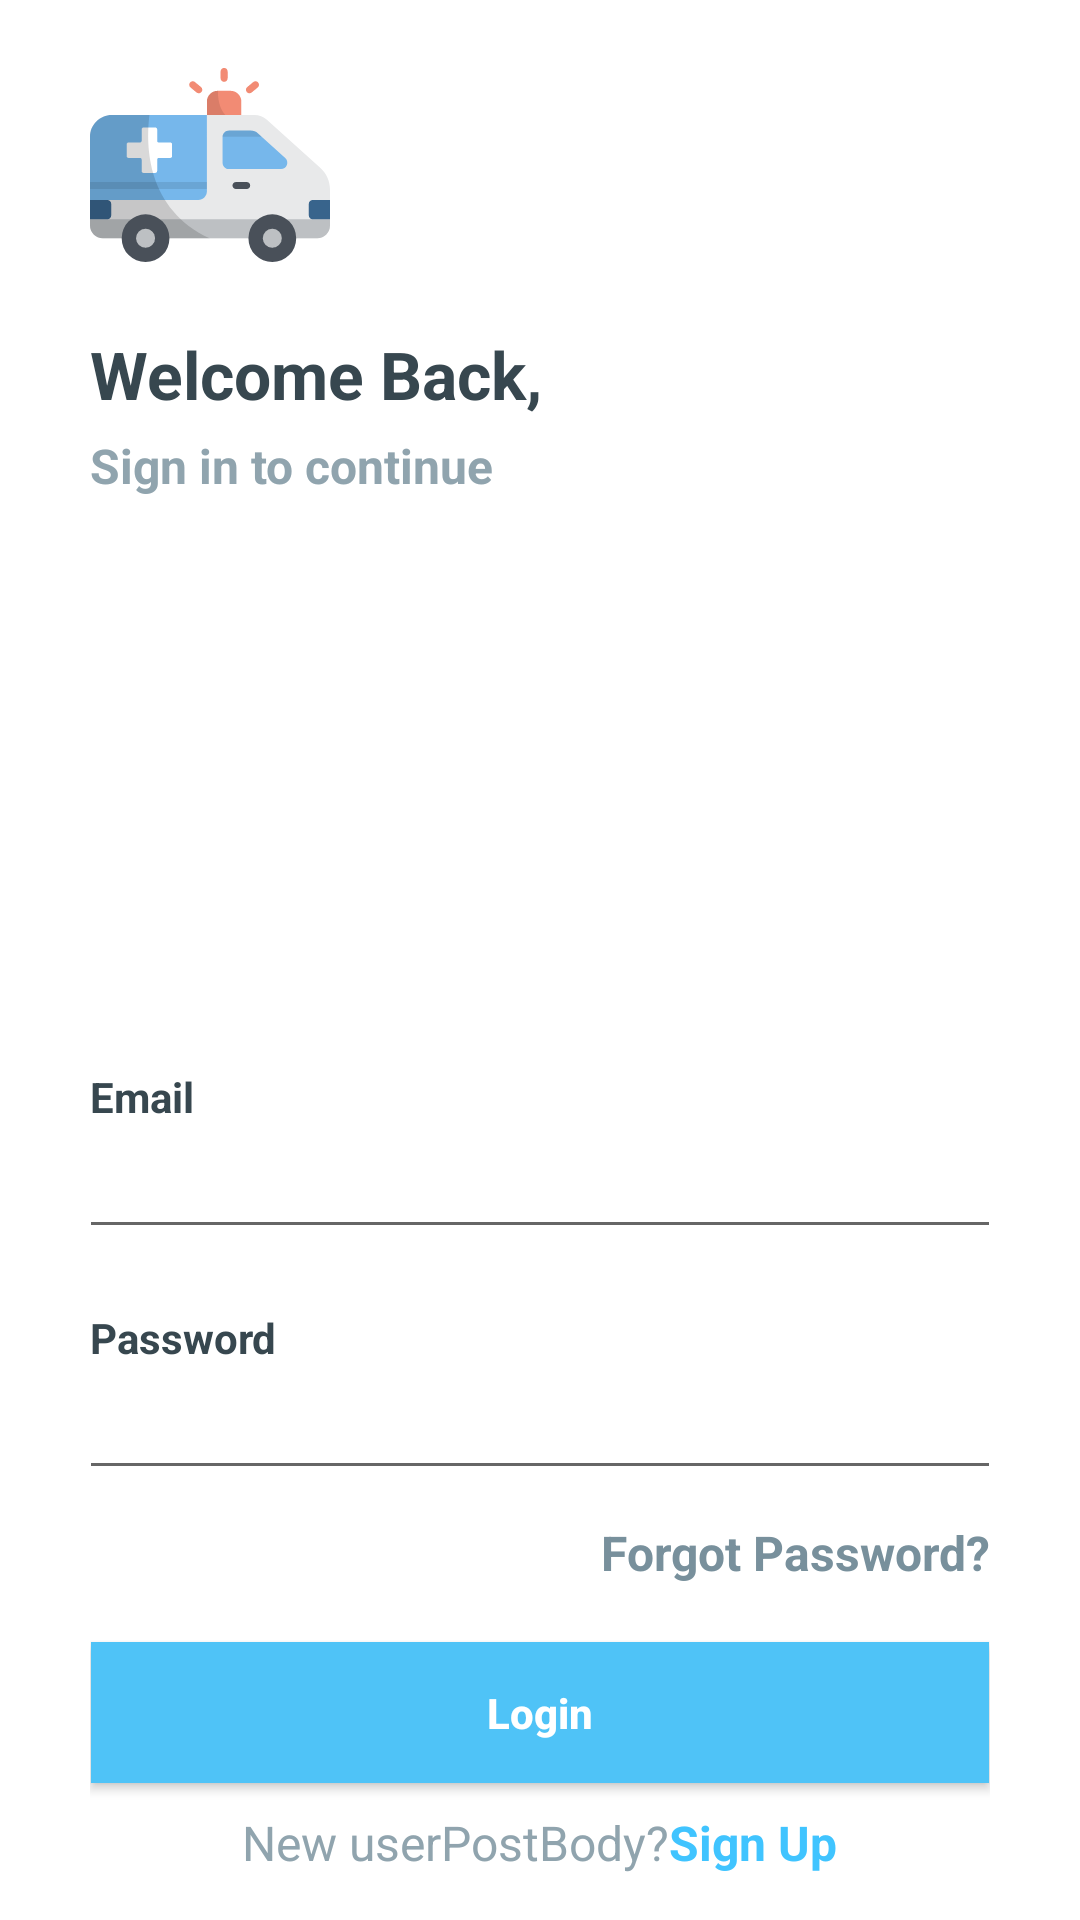

Icon click points for this 1080w x 1920h phone screenshot, format (x,y):
ambulance: (210,165)
